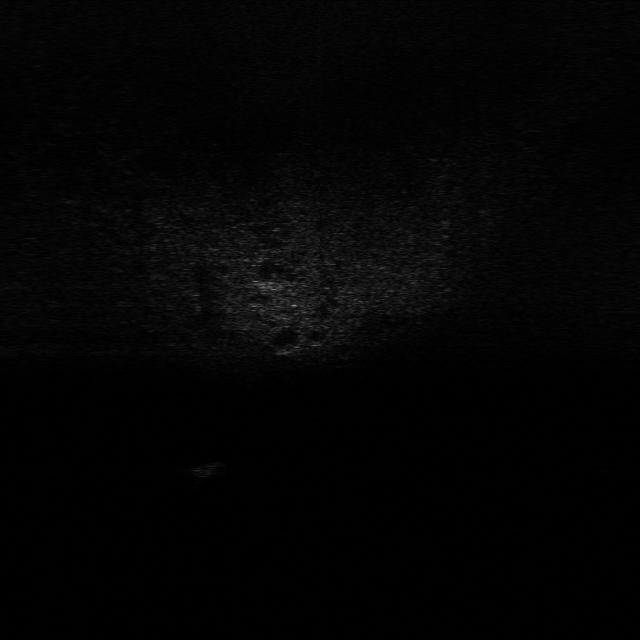cylinder: (186, 458, 222, 482)
